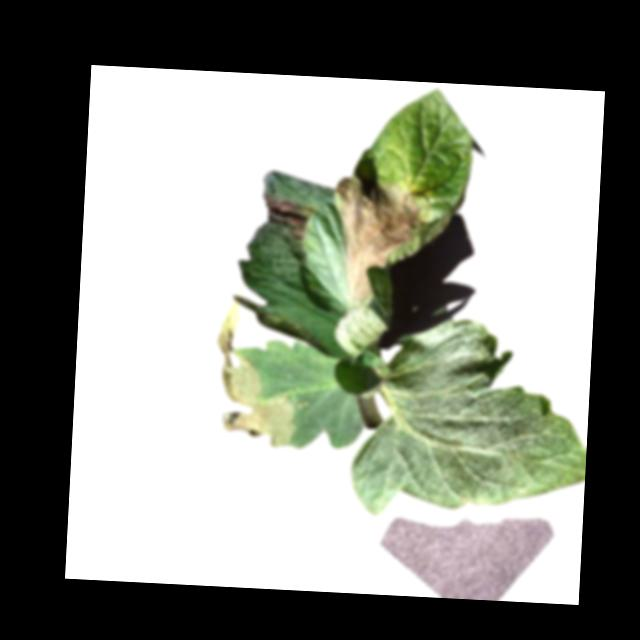Late_blight: (330, 174, 425, 304), (211, 323, 302, 448), (261, 194, 317, 241)
